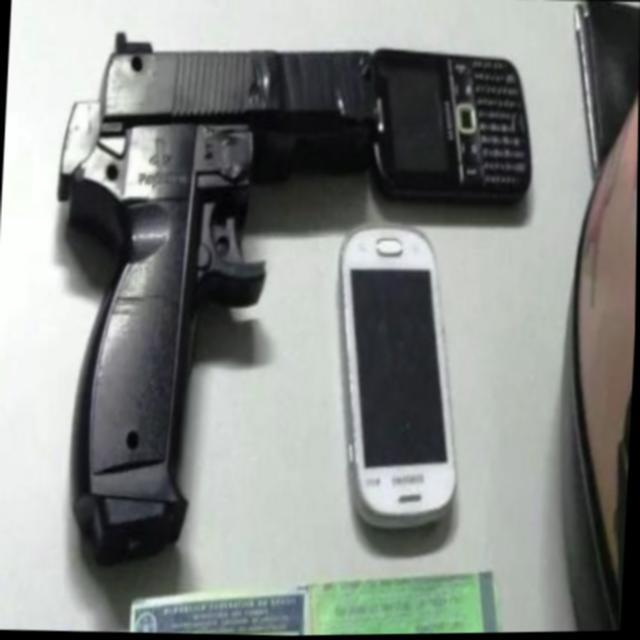weapon: (39, 22, 538, 579)
